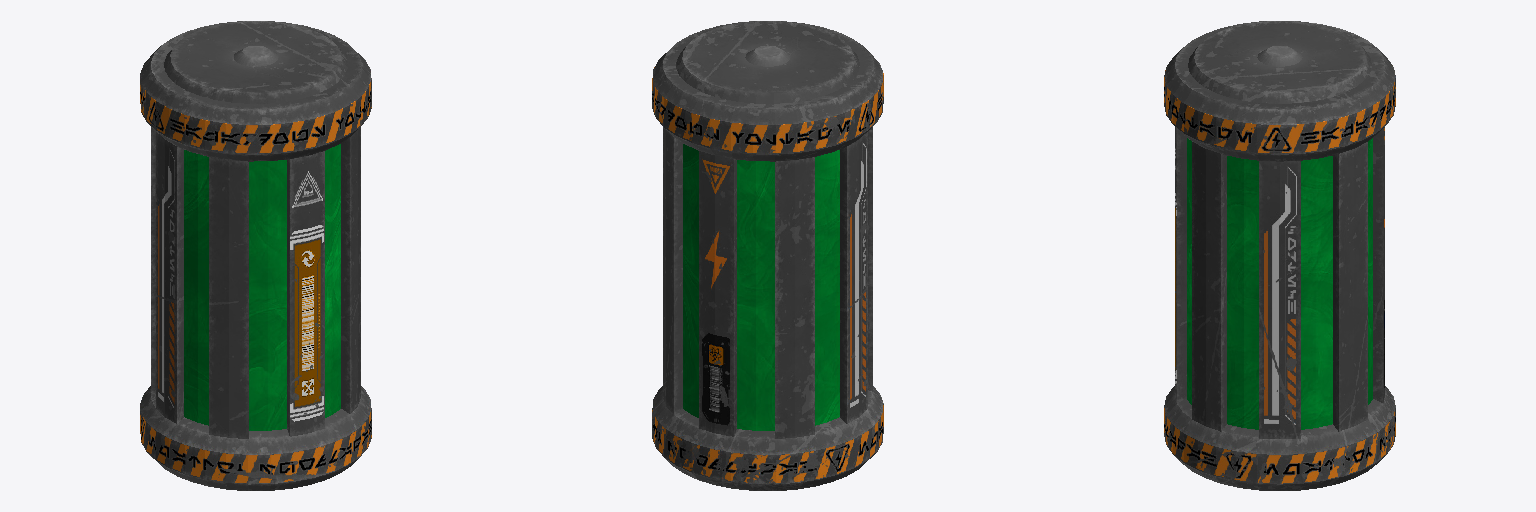
The picture shows the model from 3 angles: view 1: azimuth 30°, elevation 25°; view 2: azimuth 150°, elevation 25°; view 3: azimuth 270°, elevation 25°; orthographic projection.
Visible parts, largest first — view 1: EV_Power_Cell; view 2: EV_Power_Cell; view 3: EV_Power_Cell.
Boxes of the visible parts, x1,y1,x2,y2 form: EV_Power_Cell: [140, 21, 371, 490]; EV_Power_Cell: [652, 21, 883, 490]; EV_Power_Cell: [1164, 21, 1395, 490].
Bounding box in the file's own units: 1.01 × 1.97 × 1.01.
1 materials, 1 textured.